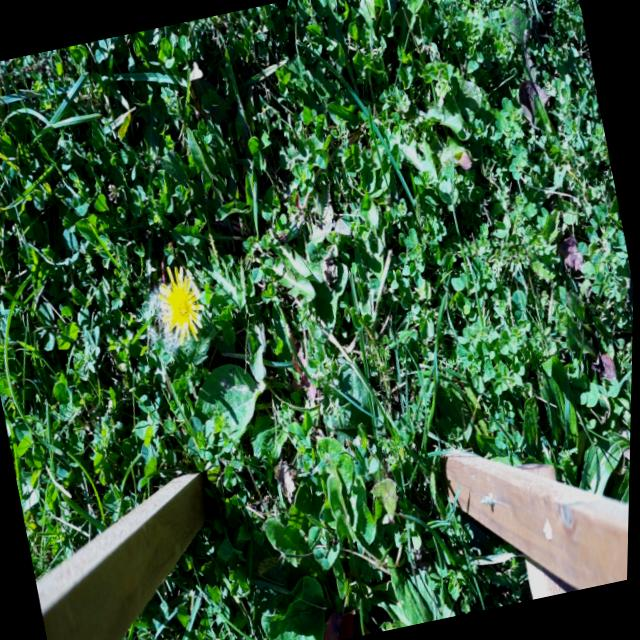base: (165, 224, 190, 254)
